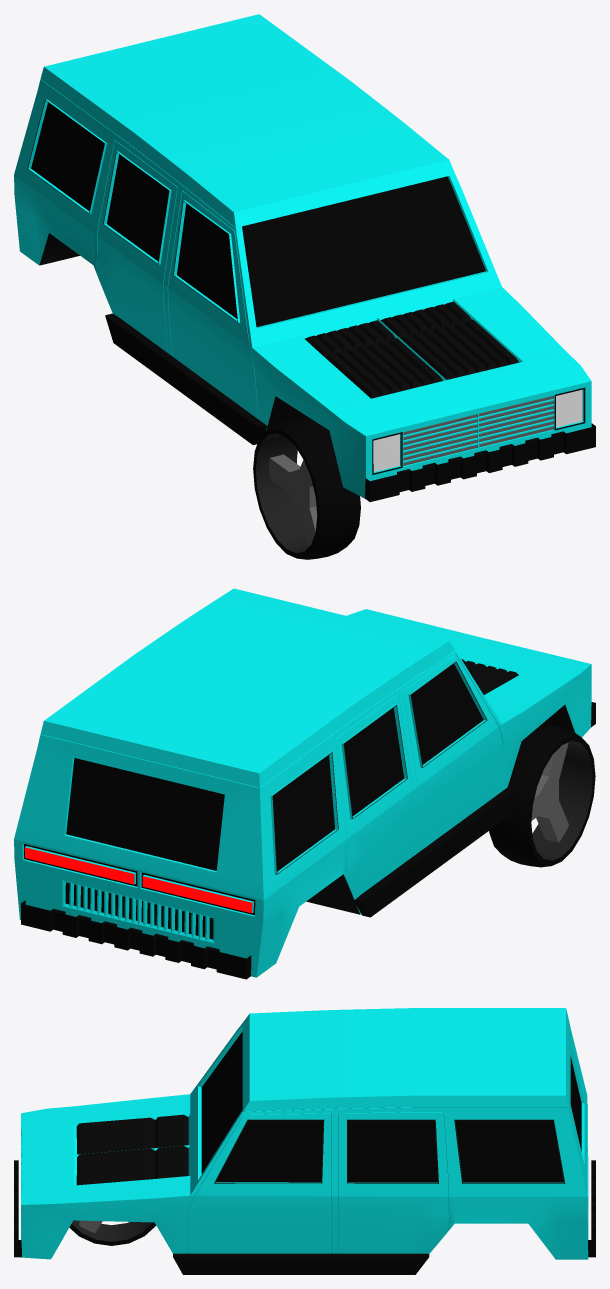
The model's file is Vehicle 3_M_V1_Raghu.fbx.
The picture shows the model from 3 angles, top to bottom: view 1: azimuth 30°, elevation 25°; view 2: azimuth 150°, elevation 25°; view 3: azimuth 270°, elevation 25°; orthographic projection. The views are drawn at different scales.
Parts seen in each view (by area): view 1: Box006, Tube004; view 2: Box006, Tube004; view 3: Box006, Tube004.
Part boxes in pixels (<box>): Box006: <box>14,14,595,501</box>; Tube004: <box>253,417,360,559</box>; Box006: <box>14,588,595,979</box>; Tube004: <box>489,724,595,867</box>; Box006: <box>14,1008,595,1274</box>; Tube004: <box>69,1220,155,1245</box>.
Bounding box in the file's own units: 821 × 840 × 1866.
